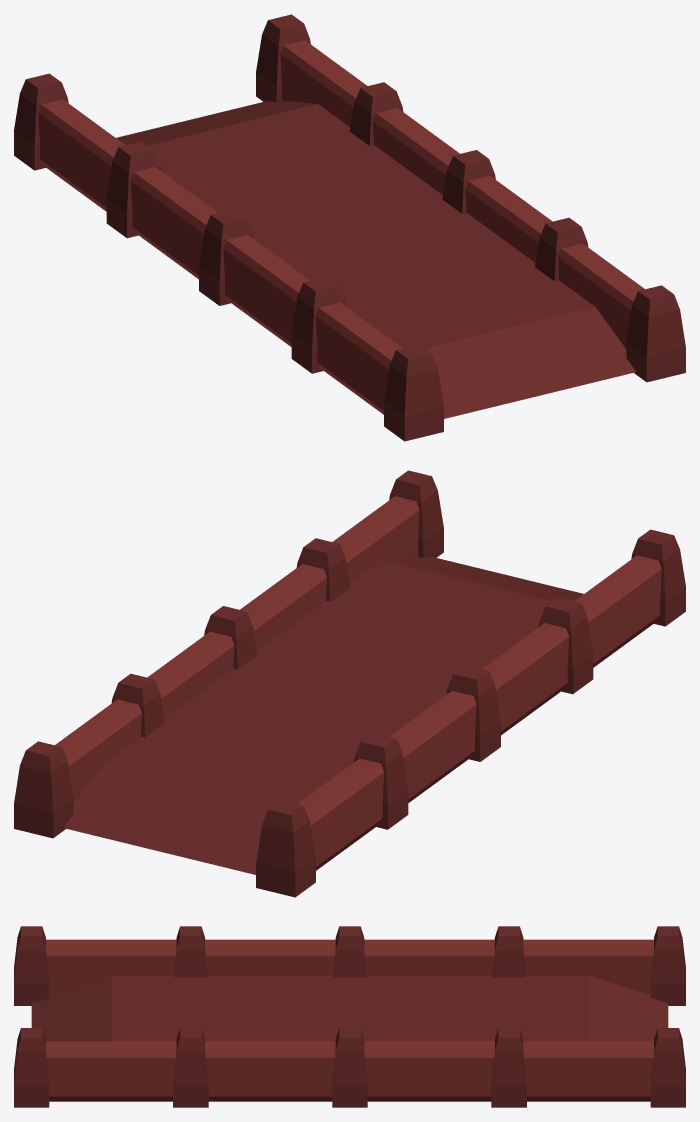
Rendered from Bridge_3_Red.fbx.
3 renders of one model, top to bottom at view 1: azimuth 30°, elevation 25°; view 2: azimuth 150°, elevation 25°; view 3: azimuth 270°, elevation 25°, orthographic. The views are drawn at different scales.
Visible parts, largest first — view 1: Bridge_3_Red_Part_1, Bridge_3_Red_Part_2, Bridge_3_Red_Part_3; view 2: Bridge_3_Red_Part_1, Bridge_3_Red_Part_2, Bridge_3_Red_Part_3; view 3: Bridge_3_Red_Part_3, Bridge_3_Red_Part_1, Bridge_3_Red_Part_2.
Boxes of the visible parts, left/top/right/bottom form: Bridge_3_Red_Part_1: left=116, top=100, right=635, bottom=418; Bridge_3_Red_Part_2: left=14, top=73, right=443, bottom=441; Bridge_3_Red_Part_3: left=256, top=14, right=685, bottom=382; Bridge_3_Red_Part_1: left=64, top=556, right=583, bottom=874; Bridge_3_Red_Part_2: left=256, top=529, right=685, bottom=897; Bridge_3_Red_Part_3: left=14, top=470, right=443, bottom=838; Bridge_3_Red_Part_3: left=14, top=1028, right=685, bottom=1107; Bridge_3_Red_Part_1: left=31, top=975, right=668, bottom=1041; Bridge_3_Red_Part_2: left=14, top=926, right=685, bottom=1005.
Size of the model in its own units: 395 by 104 by 950.
